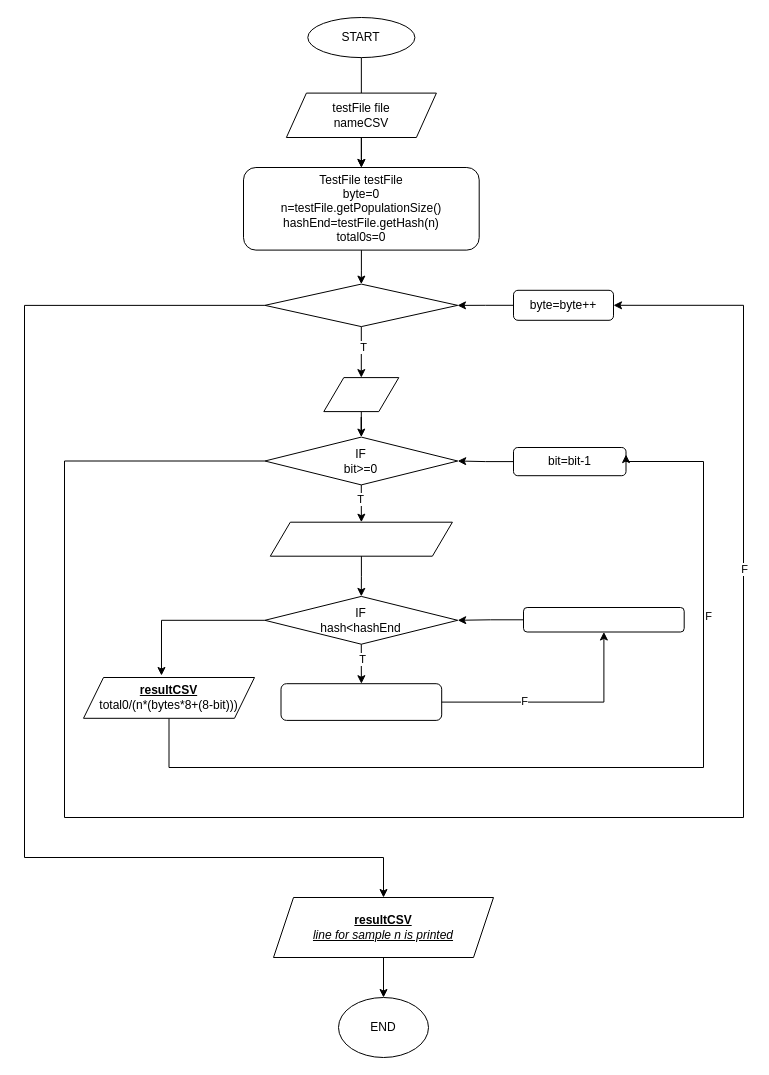
This 769x1075 diagram has some shape labels left out. Each missing label, with the centre of its shape:
"bit=7" goes at [361,394].
"hash=hash+hashbytes" goes at [603,619].
"hash=testFile.getHash(0)" goes at [360,538].
"IF byte<hashBytes" goes at [361,305].
"total0=totalzeros+!getBit(hash[byte], bit)" goes at [361,701].
